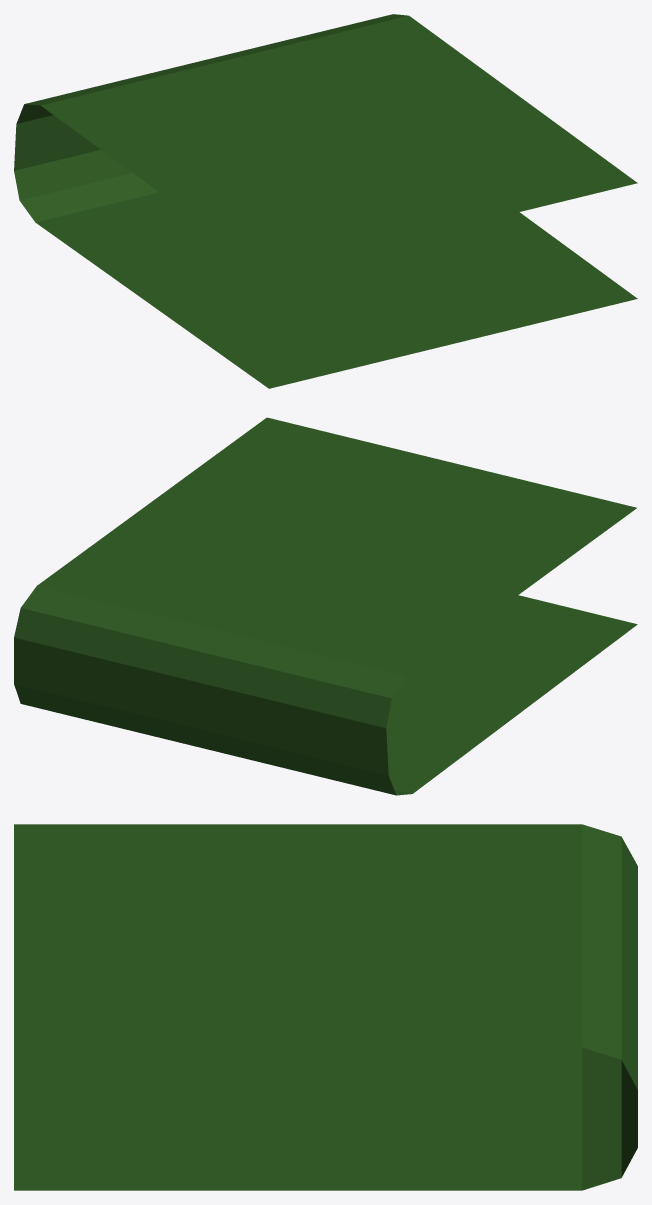
Rendered from MiddleBack.fbx.
3 views of the same model, one above another, from view 1: azimuth 30°, elevation 25°; view 2: azimuth 150°, elevation 25°; view 3: azimuth 270°, elevation 25° (orthographic). The views are drawn at different scales.
Visible parts, largest first — view 1: MiddleBack; view 2: MiddleBack; view 3: MiddleBack.
Part boxes in pixels (bbox=[...]): MiddleBack: bbox=[14, 14, 637, 388]; MiddleBack: bbox=[14, 417, 637, 795]; MiddleBack: bbox=[14, 824, 637, 1190].
Bounding box in the file's own units: 203 × 60 × 236.
